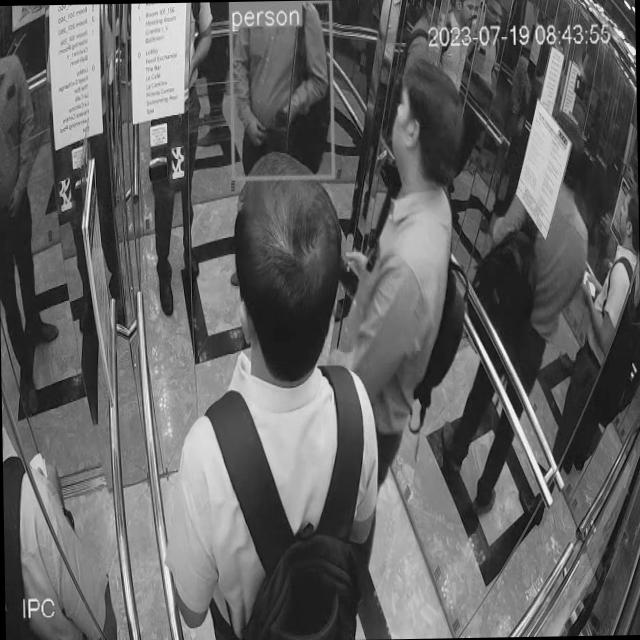person: (130, 133, 364, 631), (326, 73, 474, 624), (0, 205, 135, 616), (539, 159, 640, 507), (235, 0, 336, 173)
